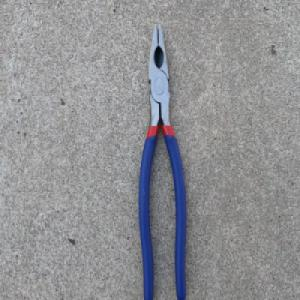Pliers: (137, 20, 187, 300)
